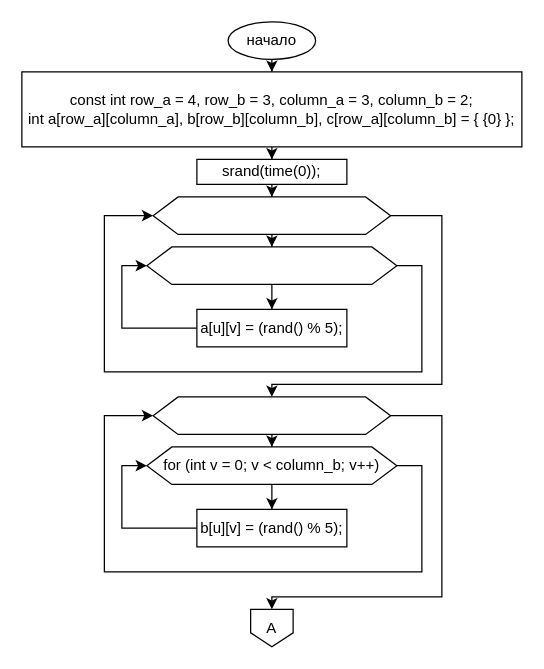
Image size: 544x669. Some labels were removed from this diagram. The shapes that lost their labels are listed below. From the top down, each one's centre as x and y in pixels, then its label:
At [271,215]: "for (int u = 0; u < row_a; u++)".
At [271,265]: "for (int v = 0; v < column_a; v++)".
At [271,415]: "for (int u = 0; u < row_b; u++)".
